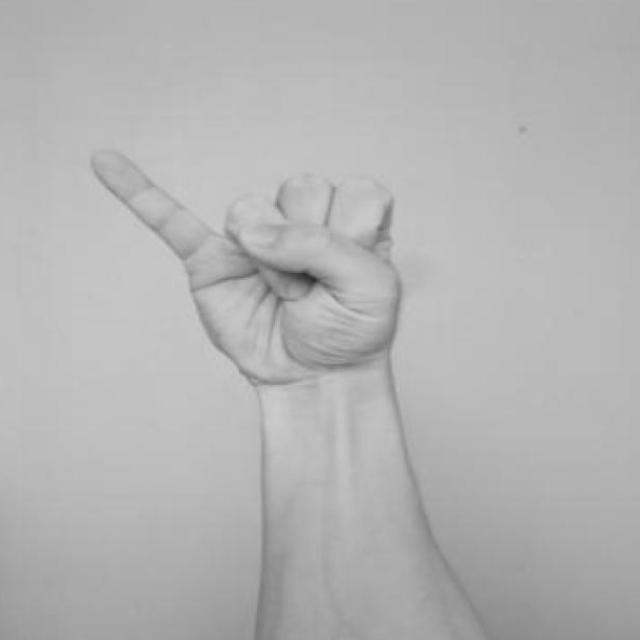I: (85, 137, 418, 395)
